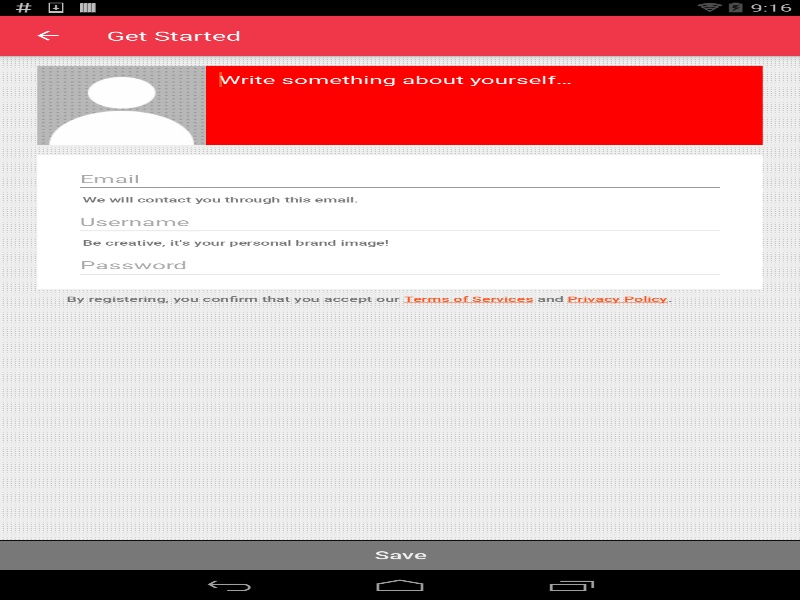Button: (0, 540, 800, 570), (10, 15, 85, 55)
Input: (206, 65, 762, 144), (74, 164, 725, 193), (74, 207, 725, 236), (74, 250, 725, 279)
